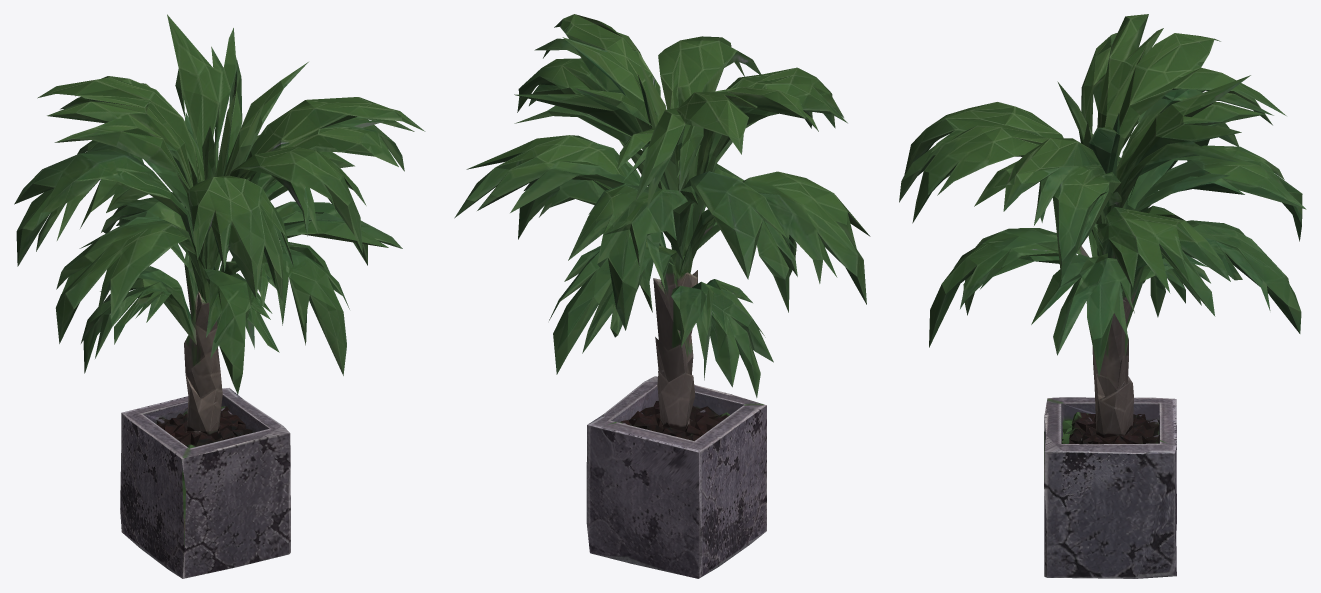
File: plant_big_opt.glb
3 views of the same model, side by side, from view 1: azimuth 30°, elevation 25°; view 2: azimuth 150°, elevation 25°; view 3: azimuth 270°, elevation 25° (orthographic). The views are drawn at different scales.
Visible parts, largest first — view 1: output_unwrapped; view 2: output_unwrapped; view 3: output_unwrapped.
Part boxes in pixels (<box>): output_unwrapped: <box>14,14,425,578</box>; output_unwrapped: <box>454,14,870,578</box>; output_unwrapped: <box>899,14,1306,578</box>.
Bounding box in the file's own units: 1.42 × 1.9 × 1.43.
Materials: 1 (1 with a texture image).
